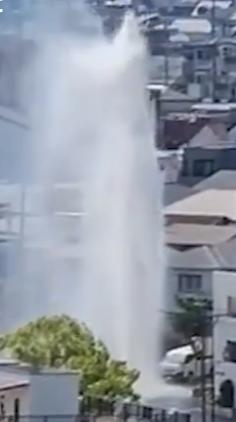pipe burst: (0, 0, 166, 394)
